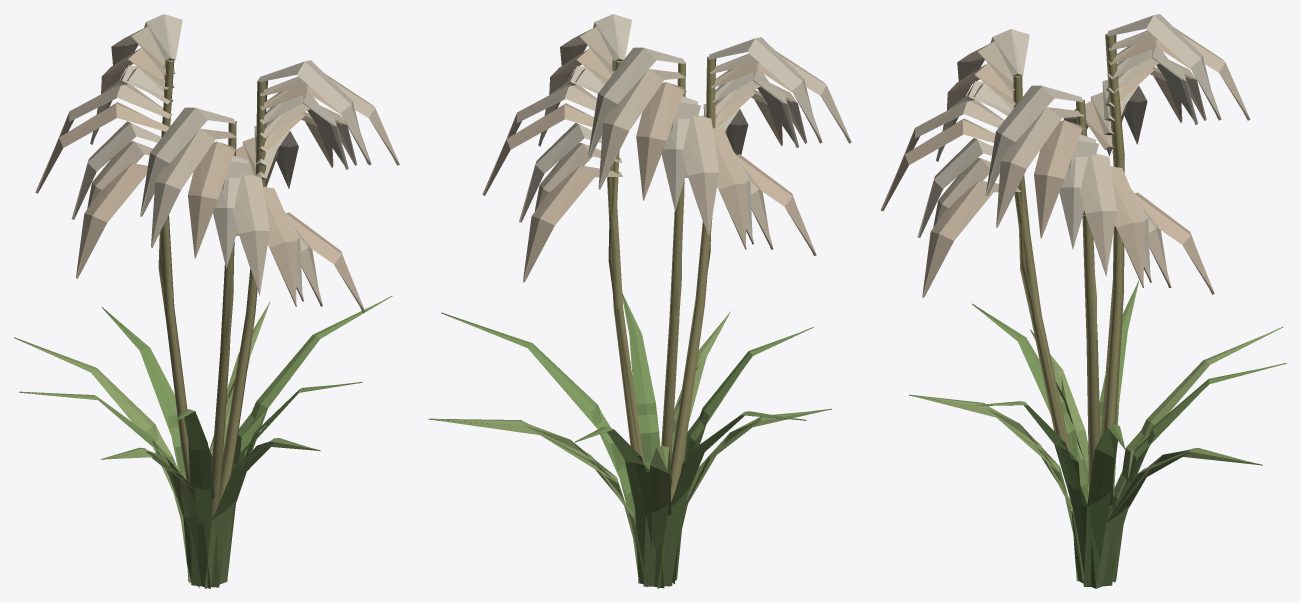
File: silver_grass_a.glb
3 renders of one model, left to right at view 1: azimuth 30°, elevation 25°; view 2: azimuth 150°, elevation 25°; view 3: azimuth 270°, elevation 25°, orthographic.
Visible parts, largest first — view 1: petal_silver_nl, body__far, leaf_nl, stem; view 2: petal_silver_nl, body__far, leaf_nl, stem; view 3: petal_silver_nl, body__far, leaf_nl, stem.
Part boxes in pixels (x1=…): petal_silver_nl: x1=35, y1=14, x2=399, y2=312; body__far: x1=17, y1=25, x2=374, y2=566; leaf_nl: x1=14, y1=296, x2=392, y2=588; stem: x1=161, y1=60, x2=265, y2=516; petal_silver_nl: x1=482, y1=14, x2=851, y2=282; body__far: x1=434, y1=26, x2=826, y2=559; leaf_nl: x1=428, y1=293, x2=831, y2=588; stem: x1=607, y1=58, x2=715, y2=501; petal_silver_nl: x1=880, y1=14, x2=1250, y2=297; body__far: x1=883, y1=15, x2=1261, y2=562; leaf_nl: x1=909, y1=280, x2=1286, y2=588; stem: x1=1013, y1=34, x2=1124, y2=500.
Size of the model in its own units: 9.52 by 13.67 by 9.
